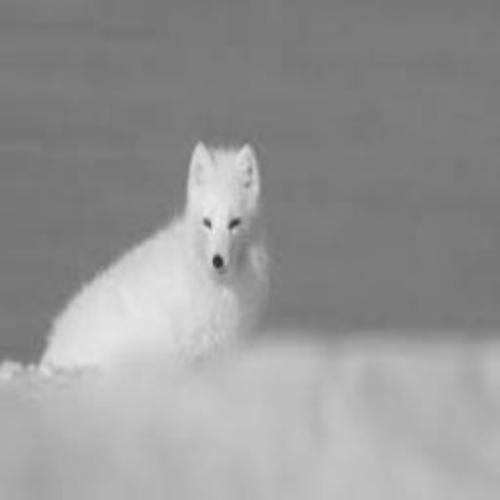arctic_fox-endangered: (42, 140, 272, 364)
